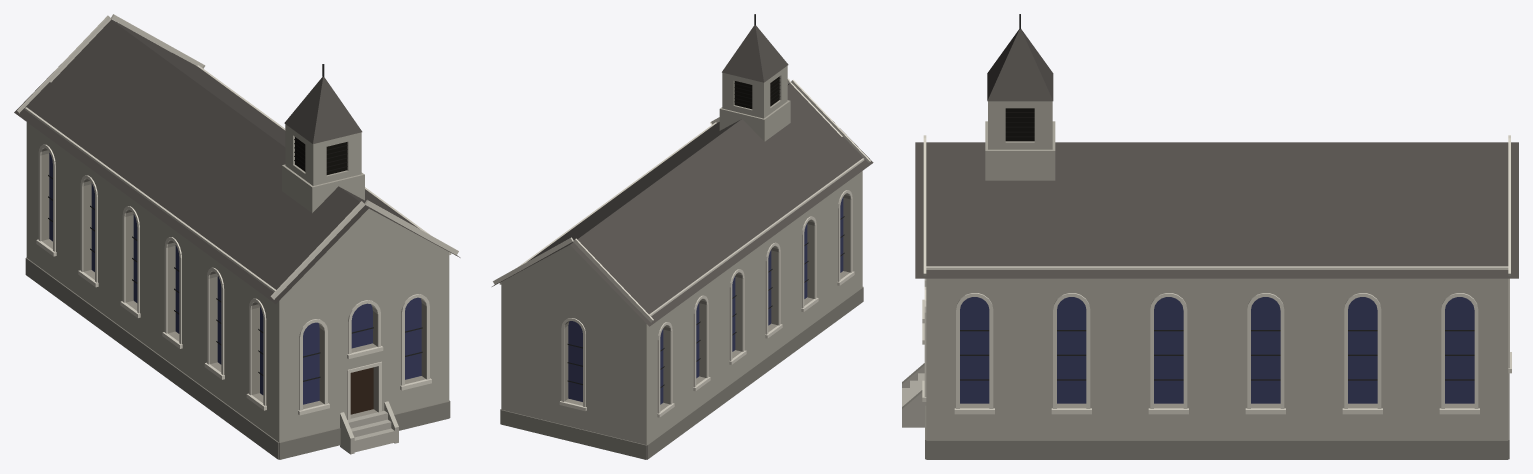
Rendered from ch-first-congregational-pulaski-heights-1913.glb.
3 views of the same model, side by side, from view 1: azimuth 30°, elevation 25°; view 2: azimuth 150°, elevation 25°; view 3: azimuth 270°, elevation 25° (orthographic). The views are drawn at different scales.
Visible parts, largest first — view 1: ch_brick, ch_roof, ch_trim, ch_brick2, ch_base, ch_stain, ch_roof2, ch_conc, ch_door, ch_shadow; view 2: ch_brick, ch_roof, ch_trim, ch_base, ch_brick2, ch_stain, ch_roof2, ch_shadow; view 3: ch_roof, ch_brick, ch_stain, ch_trim, ch_base, ch_roof2, ch_conc, ch_brick2, ch_lead, ch_shadow.
Boxes of the visible parts, <box> form: ch_brick: <box>26,122,449,442</box>; ch_roof: <box>14,19,460,303</box>; ch_trim: <box>17,14,458,419</box>; ch_brick2: <box>41,148,426,418</box>; ch_base: <box>25,257,450,459</box>; ch_stain: <box>49,153,421,404</box>; ch_roof2: <box>284,77,362,143</box>; ch_conc: <box>340,401,398,454</box>; ch_door: <box>350,367,373,414</box>; ch_shadow: <box>295,137,347,174</box>; ch_brick: <box>501,66,862,444</box>; ch_roof: <box>492,83,873,326</box>; ch_trim: <box>493,78,870,417</box>; ch_base: <box>500,287,863,459</box>; ch_brick2: <box>564,193,850,411</box>; ch_stain: <box>568,197,843,404</box>; ch_roof2: <box>722,25,788,82</box>; ch_shadow: <box>734,76,779,109</box>; ch_roof: <box>915,142,1518,278</box>; ch_brick: <box>926,101,1508,439</box>; ch_stain: <box>960,297,1474,403</box>; ch_trim: <box>922,135,1511,414</box>; ch_base: <box>925,373,1509,459</box>; ch_roof2: <box>987,29,1053,101</box>; ch_conc: <box>902,363,926,427</box>; ch_brick2: <box>960,403,1474,408</box>; ch_lead: <box>960,330,1474,380</box>; ch_shadow: <box>1005,108,1034,141</box>.
Size of the model in its own units: 9.28 by 16.4 by 22.95.
